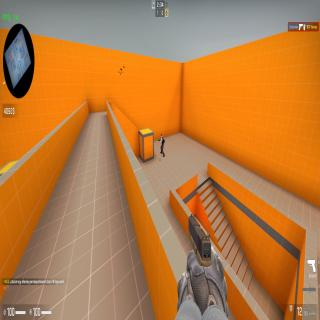T-Body: (160, 134, 164, 157)
T-Head: (160, 134, 162, 138)
